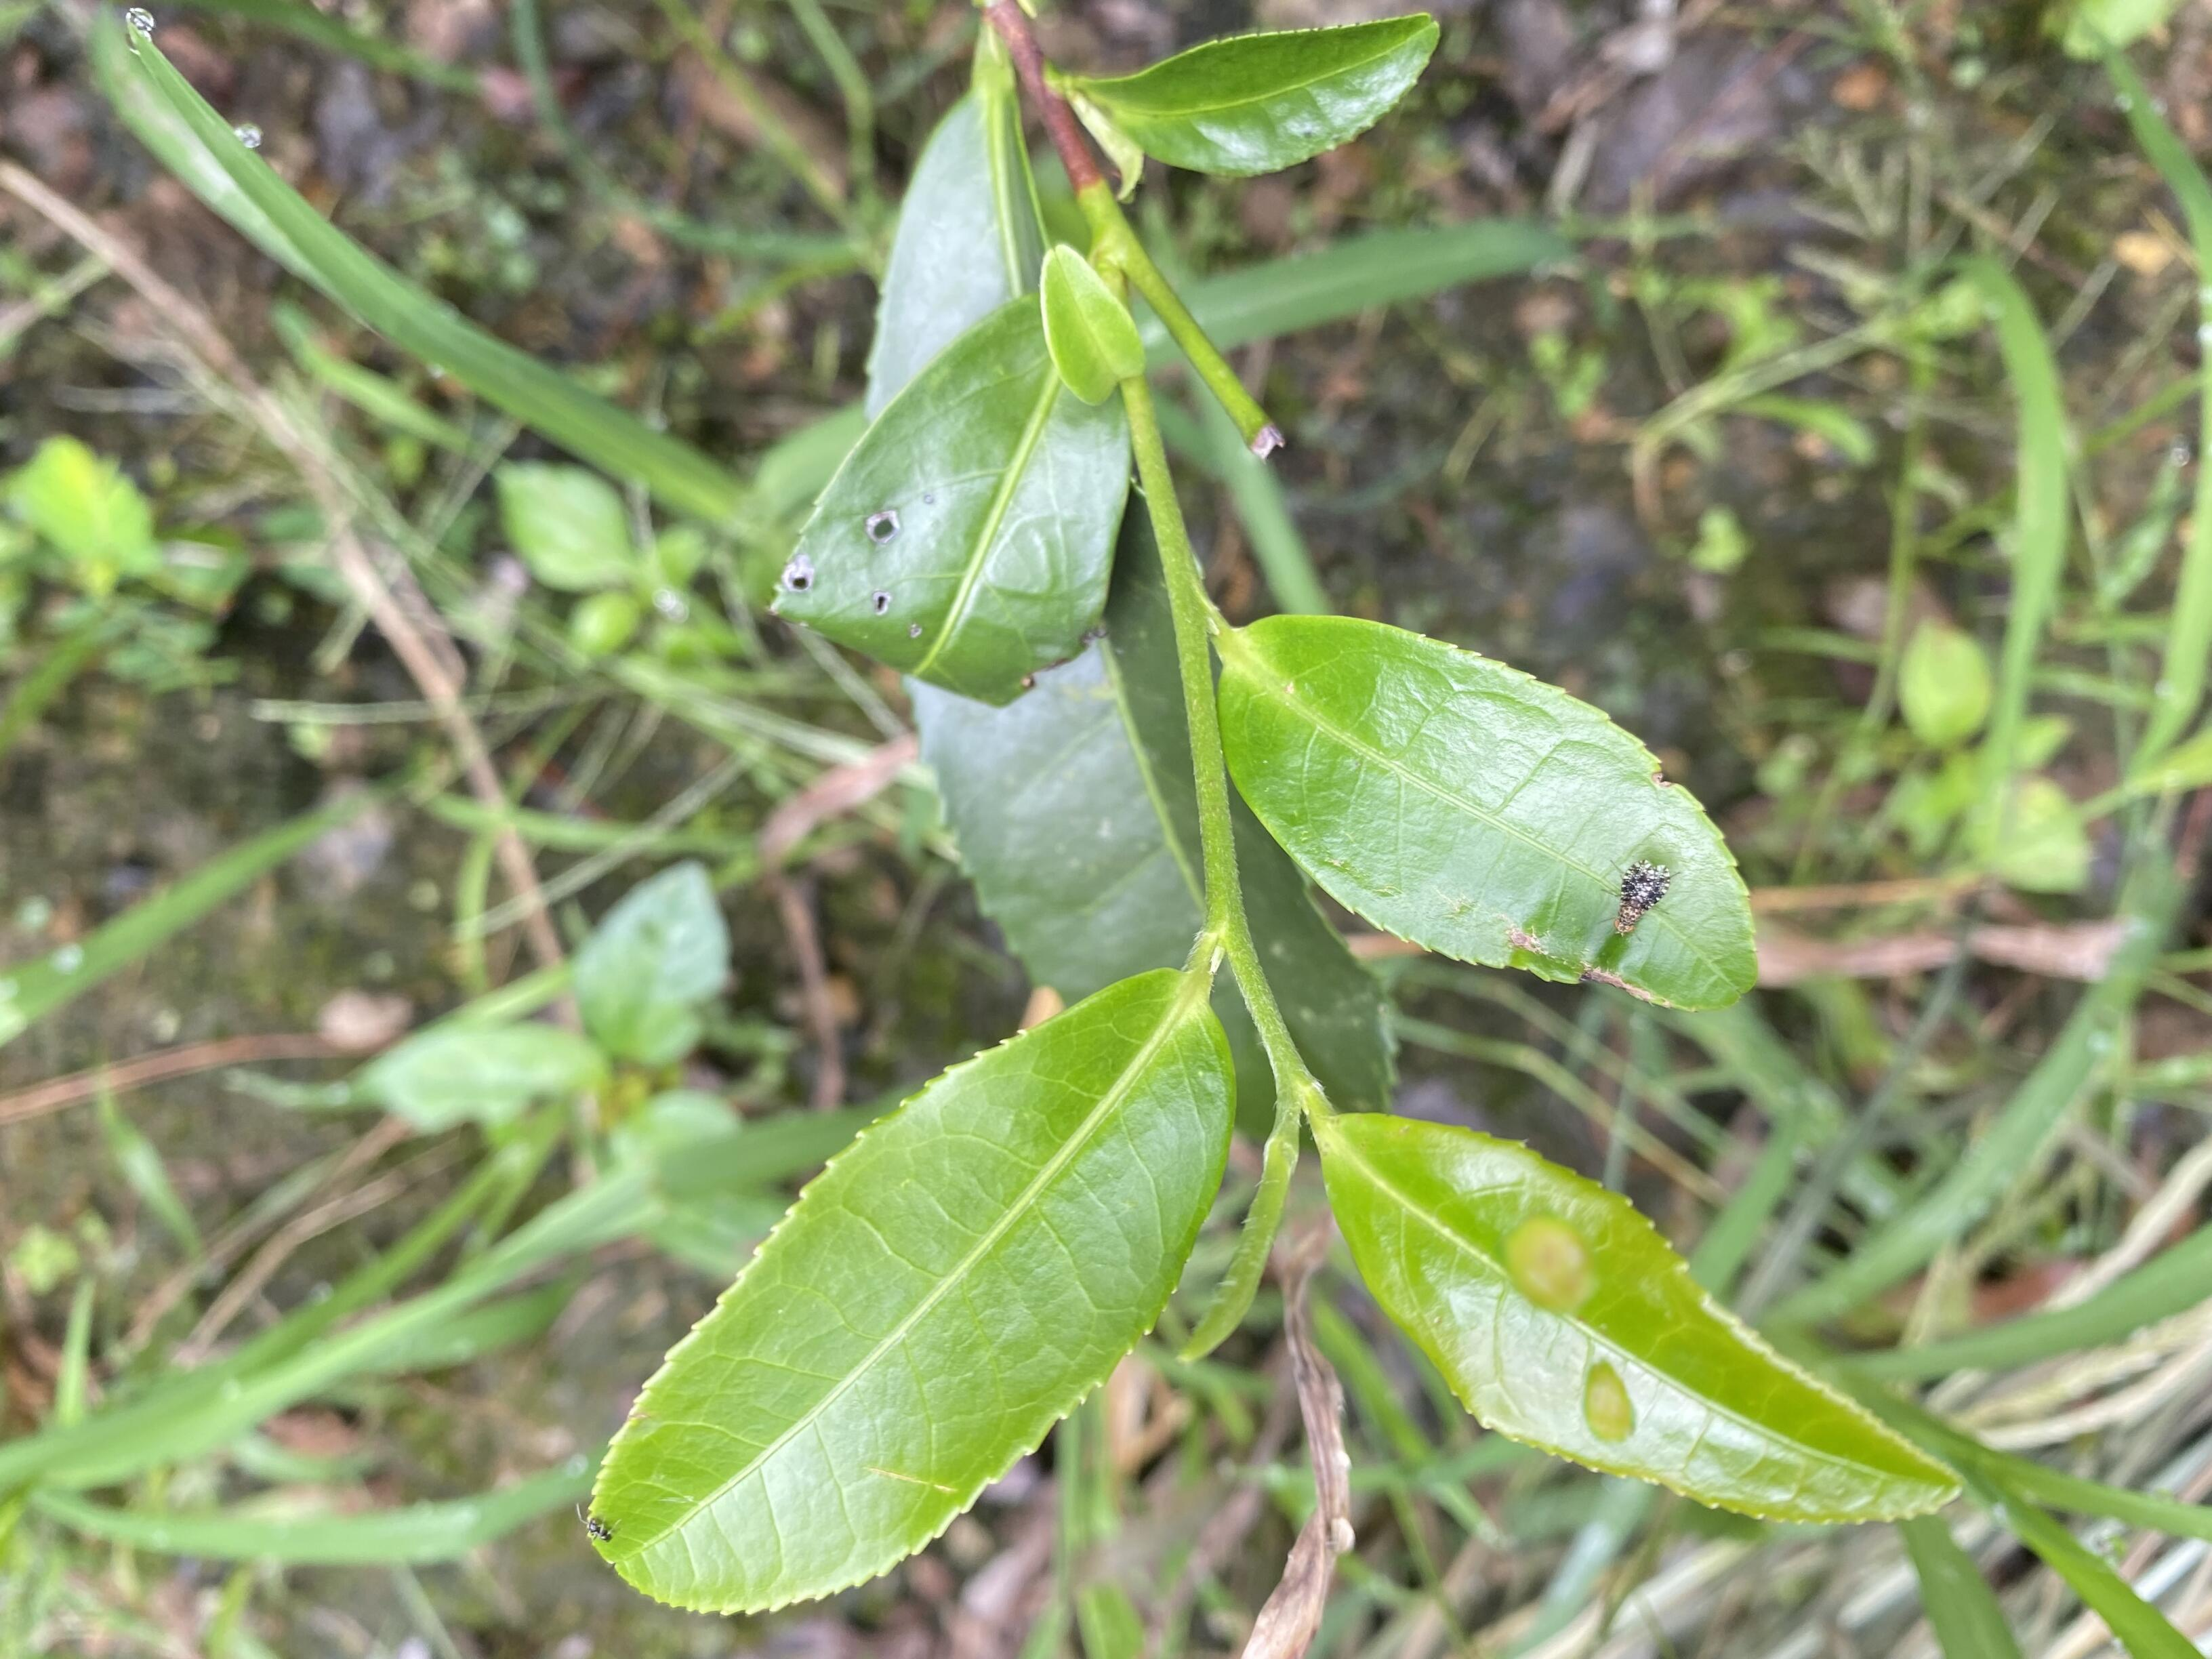chabing_high: (1317, 1110, 1970, 1530)
chihuo_high: (765, 296, 1132, 709)
healthy: (590, 967, 1237, 1615), (1080, 16, 1444, 183), (1040, 246, 1144, 415)
tanju_low: (1219, 612, 1759, 1009)
